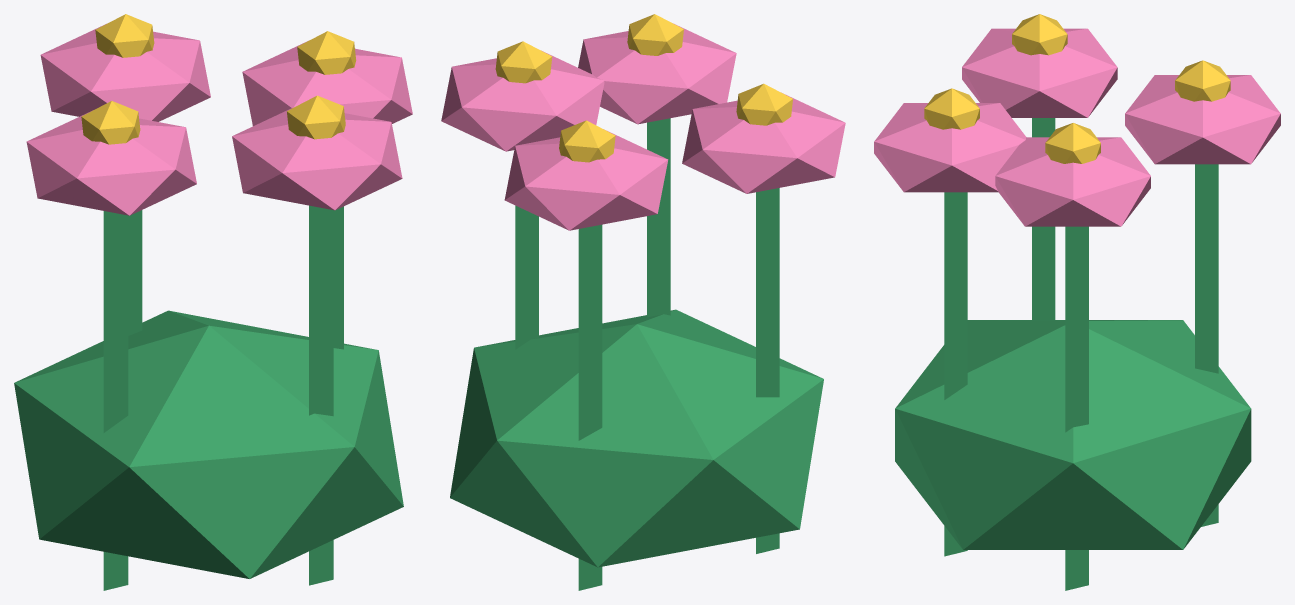
The model's file is flower_pink.glb.
3 renders of one model, left to right at view 1: azimuth 30°, elevation 25°; view 2: azimuth 150°, elevation 25°; view 3: azimuth 270°, elevation 25°, orthographic. The views are drawn at different scales.
Parts seen in each view (by area): view 1: flower_pink; view 2: flower_pink; view 3: flower_pink.
Part boxes in pixels (x1=…): flower_pink: x1=14, y1=14, x2=412, y2=590; flower_pink: x1=441, y1=14, x2=845, y2=590; flower_pink: x1=874, y1=14, x2=1280, y2=590.
Size of the model in its own units: 0.3219 by 0.406 by 0.3108.
